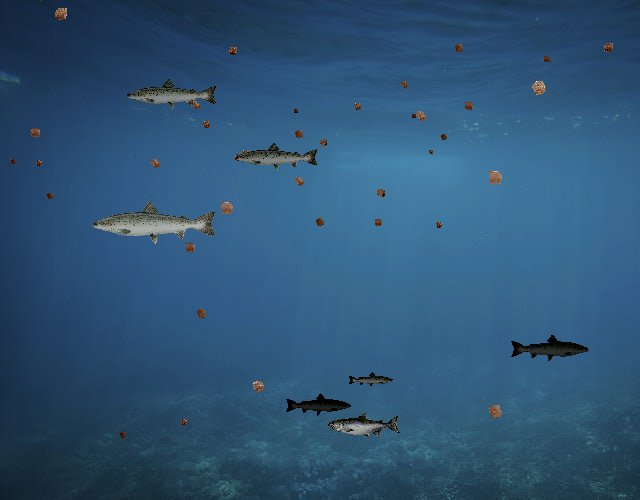Fish: (90, 199, 219, 245), (125, 77, 219, 111), (234, 141, 320, 172), (509, 334, 590, 363), (328, 412, 401, 439), (285, 392, 353, 417), (348, 371, 395, 388)
Pellet: (246, 374, 271, 399), (449, 39, 468, 58), (349, 98, 366, 115), (176, 415, 191, 430), (116, 428, 130, 442), (432, 218, 446, 232), (32, 156, 46, 170)
